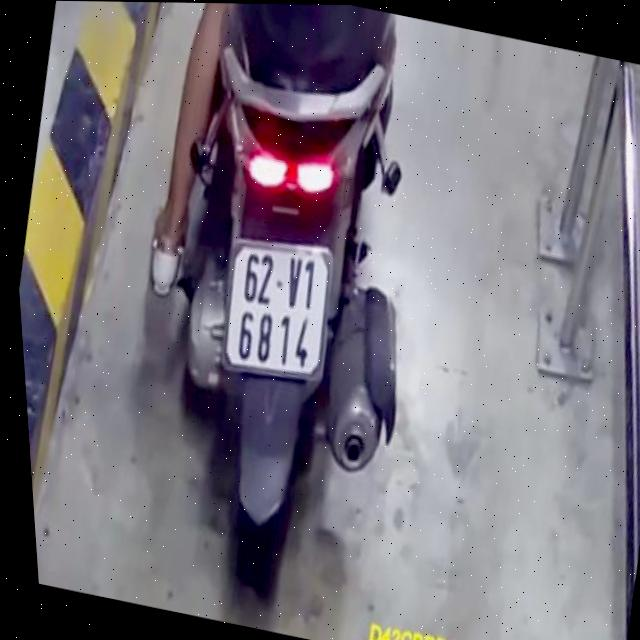motorcycle: (88, 1, 493, 633)
plate: (205, 230, 351, 389)
